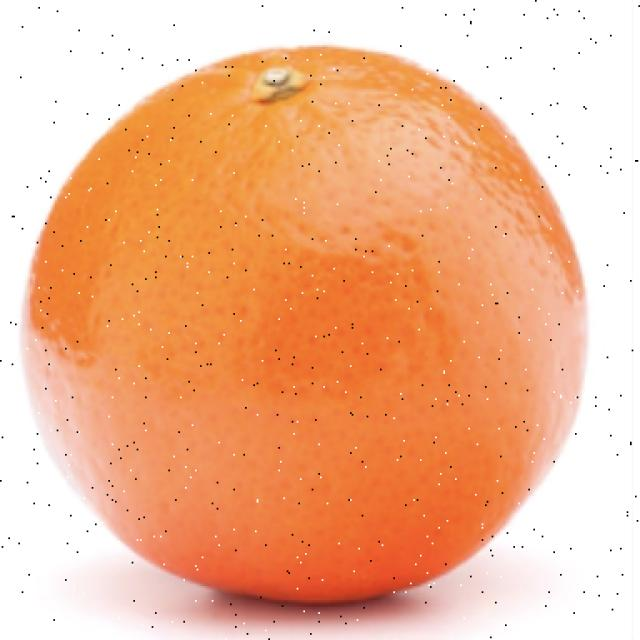orange: (31, 38, 603, 613)
